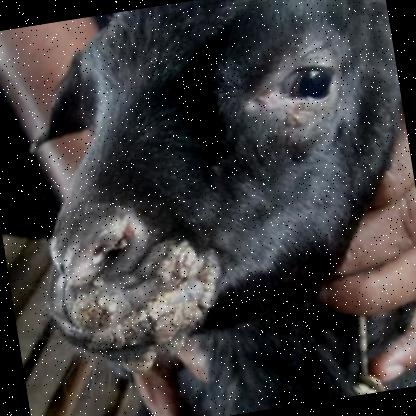ppr: (27, 241, 216, 361)
